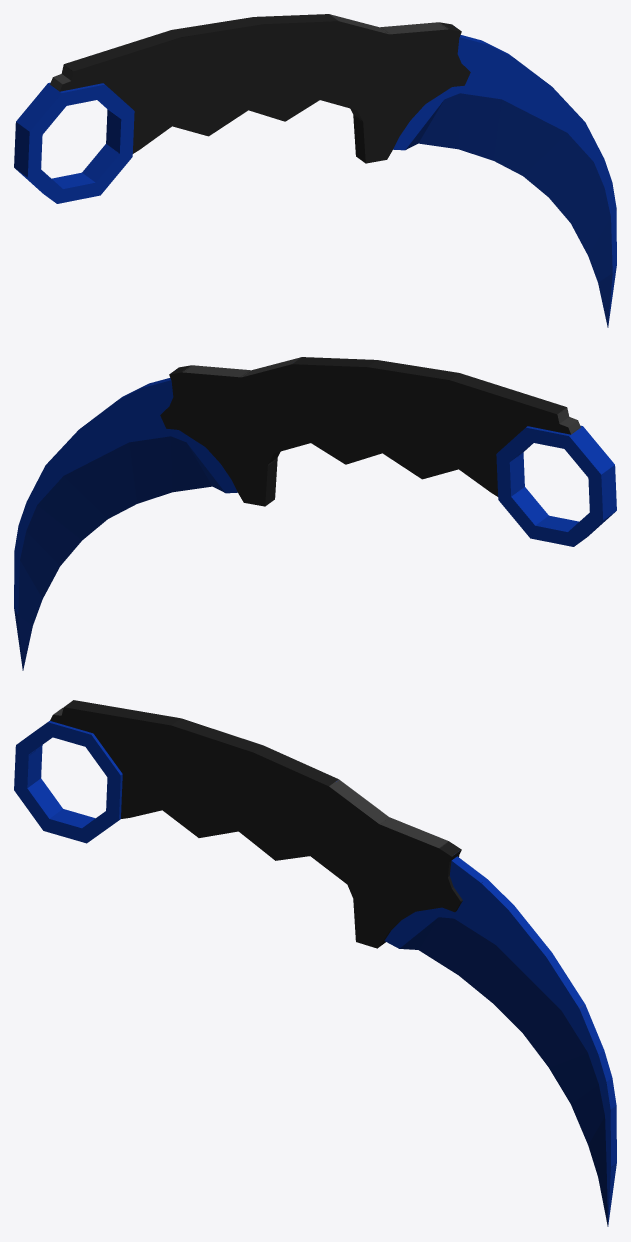
File: karambit.glb
3 renders of one model, top to bottom at view 1: azimuth 30°, elevation 25°; view 2: azimuth 150°, elevation 25°; view 3: azimuth 330°, elevation 25°, orthographic.
Parts seen in each view (by area): view 1: Cylinder; view 2: Cylinder; view 3: Cylinder.
Part boxes in pixels (x1,y1,x2,y2): Cylinder: (14,14,616,327); Cylinder: (14,357,616,670); Cylinder: (14,700,616,1226).
Size of the model in its own units: 10.44 by 6.74 by 0.42.
Materials: 1 (1 with a texture image).
